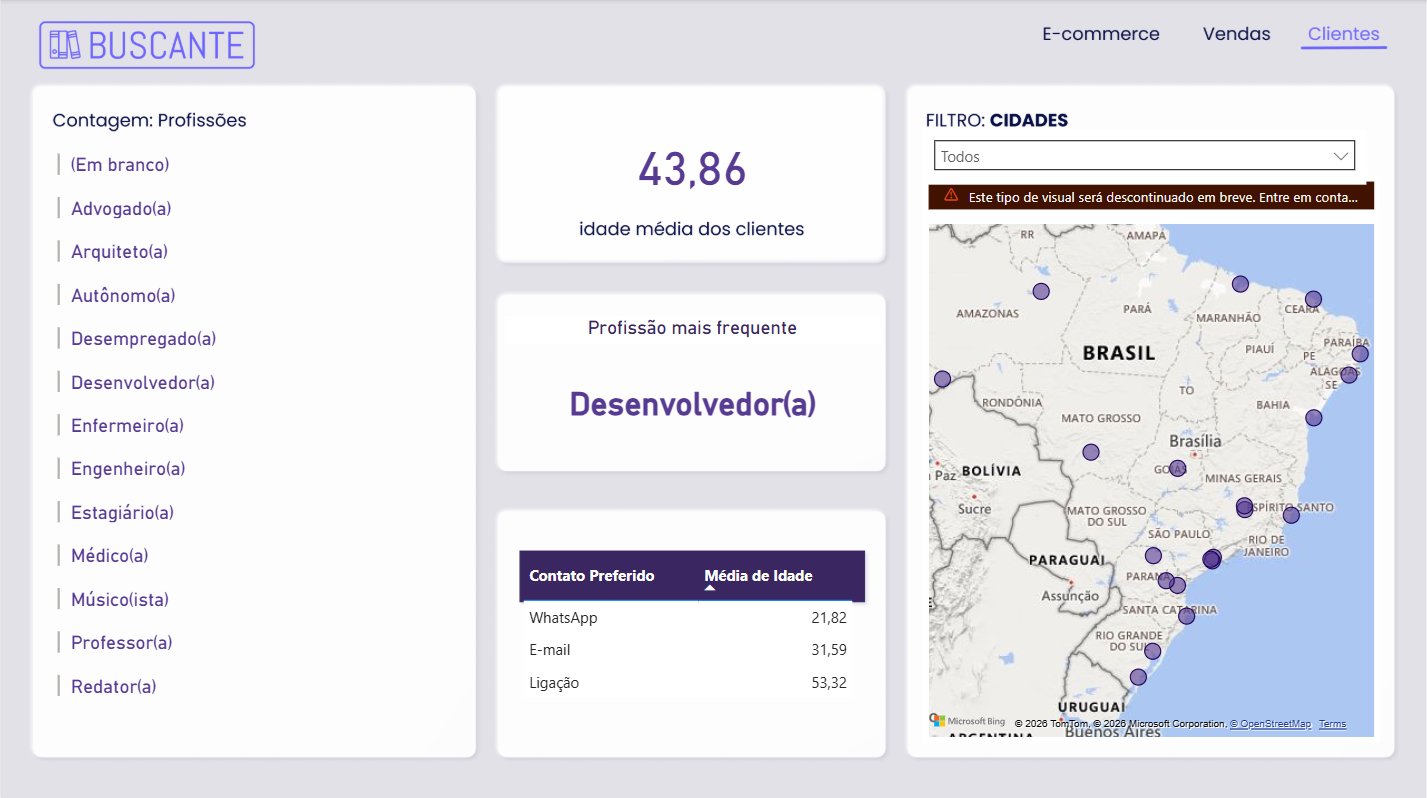

The page's visual inventory and layout, read from the dashboard file:
{"tool":"powerbi","page":{"name":"cliente","canvas":[1280,720],"ordinal":2},"visuals":[{"type":"multiRowCard","fields":{"Values":["Clientes.Profissão"]},"box":[45.6,133.3,354.4,524.4],"z":0},{"type":"card","fields":{"Values":["Avg(Clientes.Idade)"]},"box":[471.1,88.9,298.9,116.7],"z":1000},{"type":"card","title":"Profissão mais frequente","fields":{"Values":["Min(Clientes.Profissão)"]},"box":[452.2,284.4,336.7,134.4],"z":2000},{"type":"map","fields":{"X":["Clientes.Longitude"],"Y":["Clientes.Latitude"]},"box":[827.8,158.9,410,508.9],"z":3000},{"type":"slicer","fields":{"Values":["Clientes.Cidade"]},"box":[827.8,116.7,397.8,50],"z":4000},{"type":"tableEx","fields":{"Values":["Clientes.Contato Preferido","Avg(Clientes.Idade)"]},"box":[463.3,497.8,315.6,146.7],"z":5000},{"type":"actionButton","box":[922.2,12.2,126.7,40],"z":6000},{"type":"actionButton","box":[1056.7,11.1,104.4,40],"z":7000}]}

Visuals, with their boxes on the page's 1280x720 design canvas (x1, y1, x2, y2). These are canvas units, not pixel positions in the 1427x798 screenshot, which may show the page scaled, cropped or inside an application window:
multiRowCard - Clientes.Profissão: 46:133:400:658
card - Avg(Clientes.Idade): 471:89:770:206
"Profissão mais frequente" card: 452:284:789:419
map - Clientes.Longitude x Clientes.Latitude: 828:159:1238:668
slicer - Clientes.Cidade: 828:117:1226:167
tableEx - Clientes.Contato Preferido x Avg(Clientes.Idade): 463:498:779:644
actionButton: 922:12:1049:52
actionButton: 1057:11:1161:51
